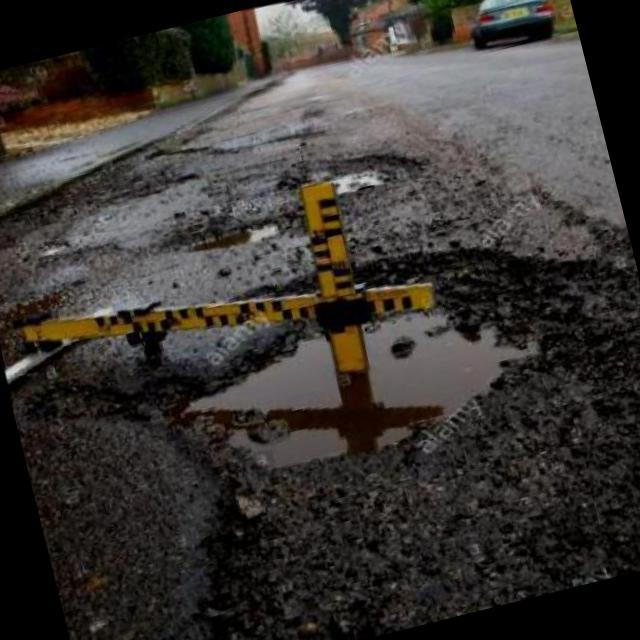Pothole: (27, 249, 585, 470), (303, 156, 421, 205), (173, 221, 290, 253), (225, 273, 319, 302)
